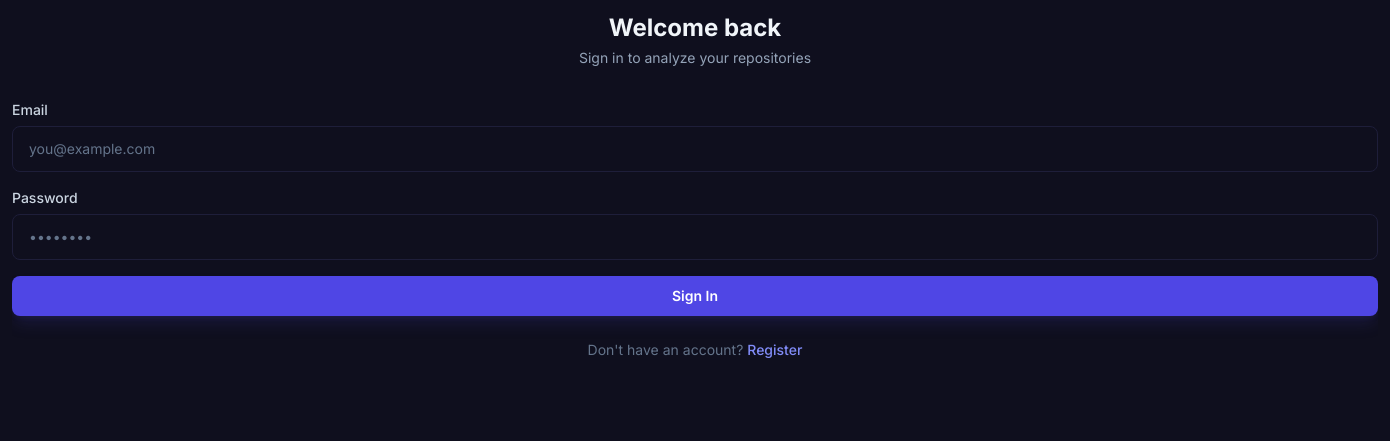
Test: LoginPage — error handling › displays error message when login fails with server error
Type "bad@example.com" into the field labelled "Email" at (695, 149), box [12, 126, 1378, 172]
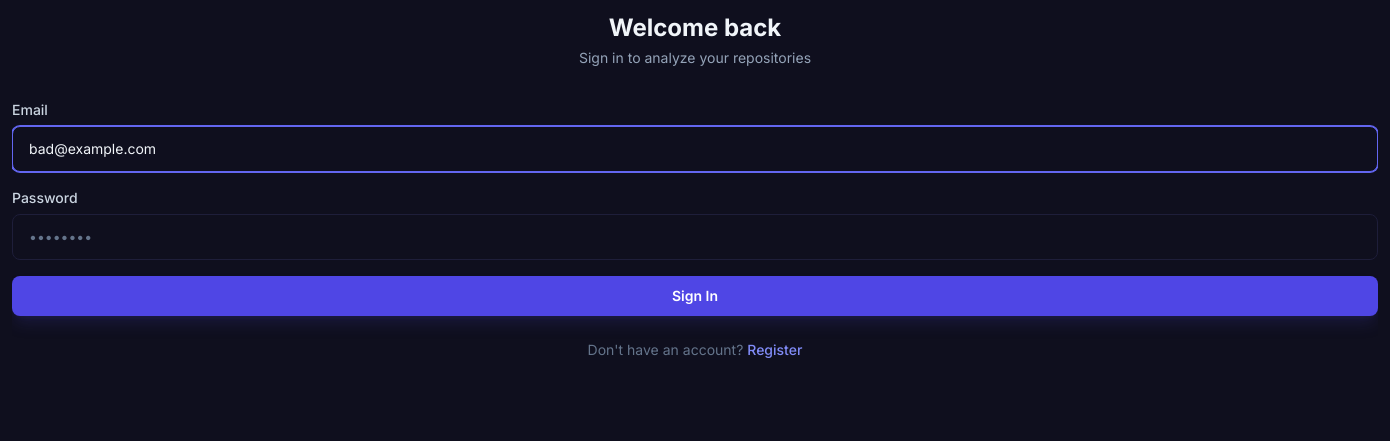
Type "wrongpass" into the password field labelled "Password" at (695, 237), box [12, 214, 1378, 260]
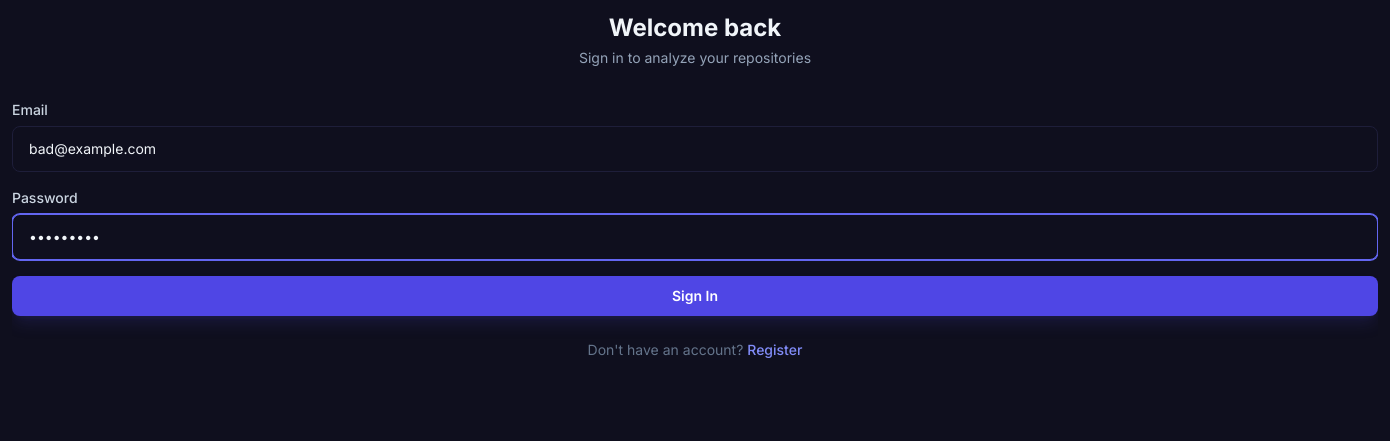
Click the button "Sign In" at (695, 296), box [12, 276, 1378, 316]
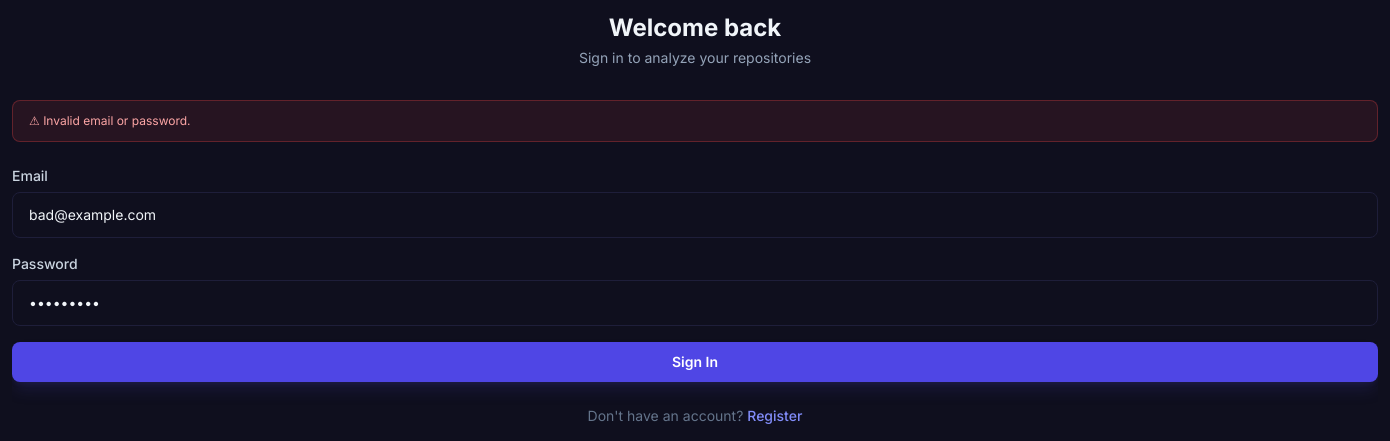
Expected: the text "⚠ Invalid email or password." is shown, [12, 100, 1378, 142]
